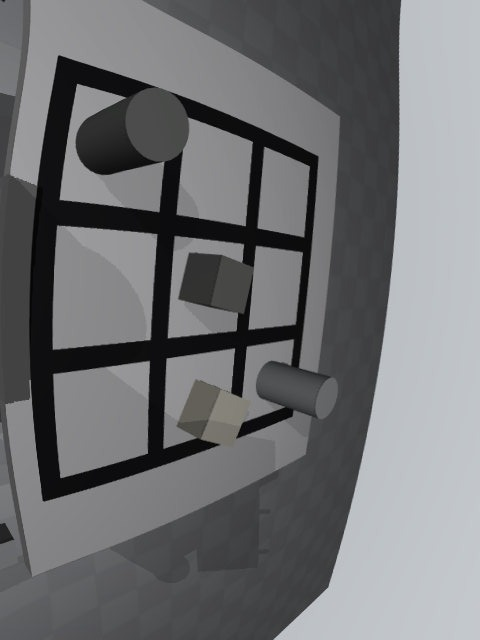can: (256, 361, 338, 419)
cube: (178, 252, 254, 315)
cylinder: (75, 87, 189, 175)
foam: (177, 379, 251, 447)
